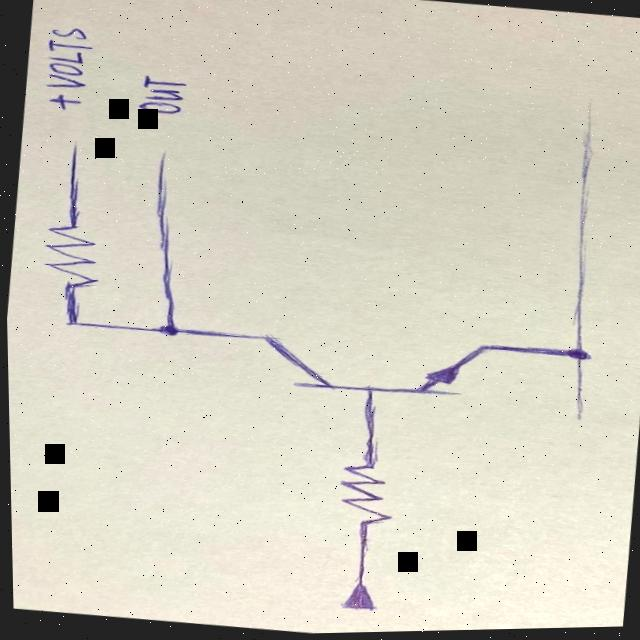junction: (545, 339, 601, 373), (136, 317, 189, 345), (52, 314, 84, 330)
resistor: (321, 452, 400, 538), (29, 216, 105, 299)
terminal: (317, 576, 381, 619), (575, 100, 601, 115), (60, 138, 88, 151), (149, 149, 174, 163), (563, 415, 586, 428)
text: (29, 22, 97, 93), (125, 74, 194, 120), (35, 90, 84, 113)
transistor: (236, 311, 503, 420)
